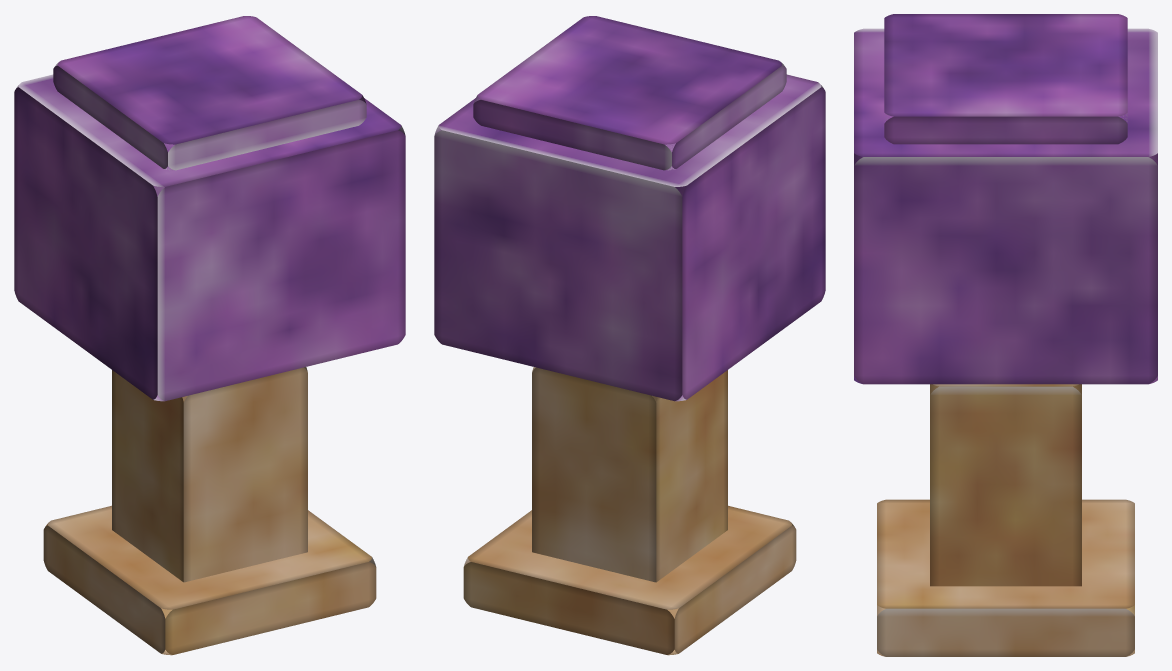
Rendered from Laccaria.fbx.
3 renders of one model, left to right at view 1: azimuth 30°, elevation 25°; view 2: azimuth 150°, elevation 25°; view 3: azimuth 270°, elevation 25°, orthographic. The views are drawn at different scales.
Visible parts, largest first — view 1: Head, Stem, headtop, Base; view 2: Head, Stem, headtop, Base; view 3: Head, headtop, Stem, Base.
Part boxes in pixels (<box>): Head: <box>14,74,405,401</box>; Stem: <box>112,367,307,582</box>; headtop: <box>53,16,366,170</box>; Base: <box>43,505,376,655</box>; Head: <box>434,74,825,401</box>; Stem: <box>532,367,727,582</box>; headtop: <box>473,16,786,170</box>; Base: <box>463,505,796,655</box>; Head: <box>854,28,1157,384</box>; headtop: <box>884,14,1127,144</box>; Stem: <box>930,384,1081,586</box>; Base: <box>877,499,1134,656</box>.
Size of the model in its own units: 400 by 780 by 400.
1 material, 1 textured.
